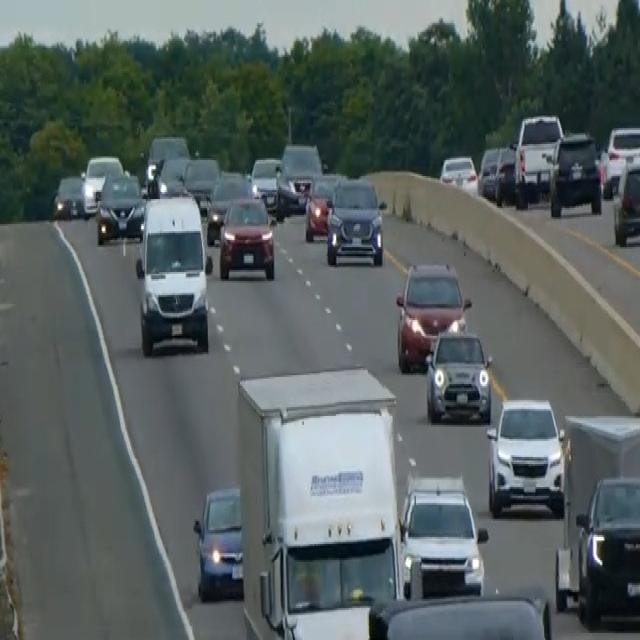car: (398, 471, 488, 599), (574, 471, 639, 624), (486, 395, 565, 517), (368, 590, 553, 638), (394, 258, 470, 372), (424, 324, 493, 423), (192, 483, 244, 601), (325, 174, 385, 267), (218, 194, 275, 281), (547, 128, 602, 217), (513, 110, 564, 204), (95, 169, 144, 245), (205, 169, 252, 243), (276, 141, 322, 215), (304, 170, 345, 242), (602, 123, 639, 197), (81, 153, 123, 215), (611, 155, 639, 245), (144, 134, 189, 190), (183, 153, 220, 211), (249, 155, 282, 213), (439, 151, 478, 196), (52, 172, 85, 220), (493, 146, 517, 206), (156, 153, 190, 194), (477, 144, 502, 199)
lorry: (235, 363, 405, 638)
minibus: (132, 187, 212, 357)
